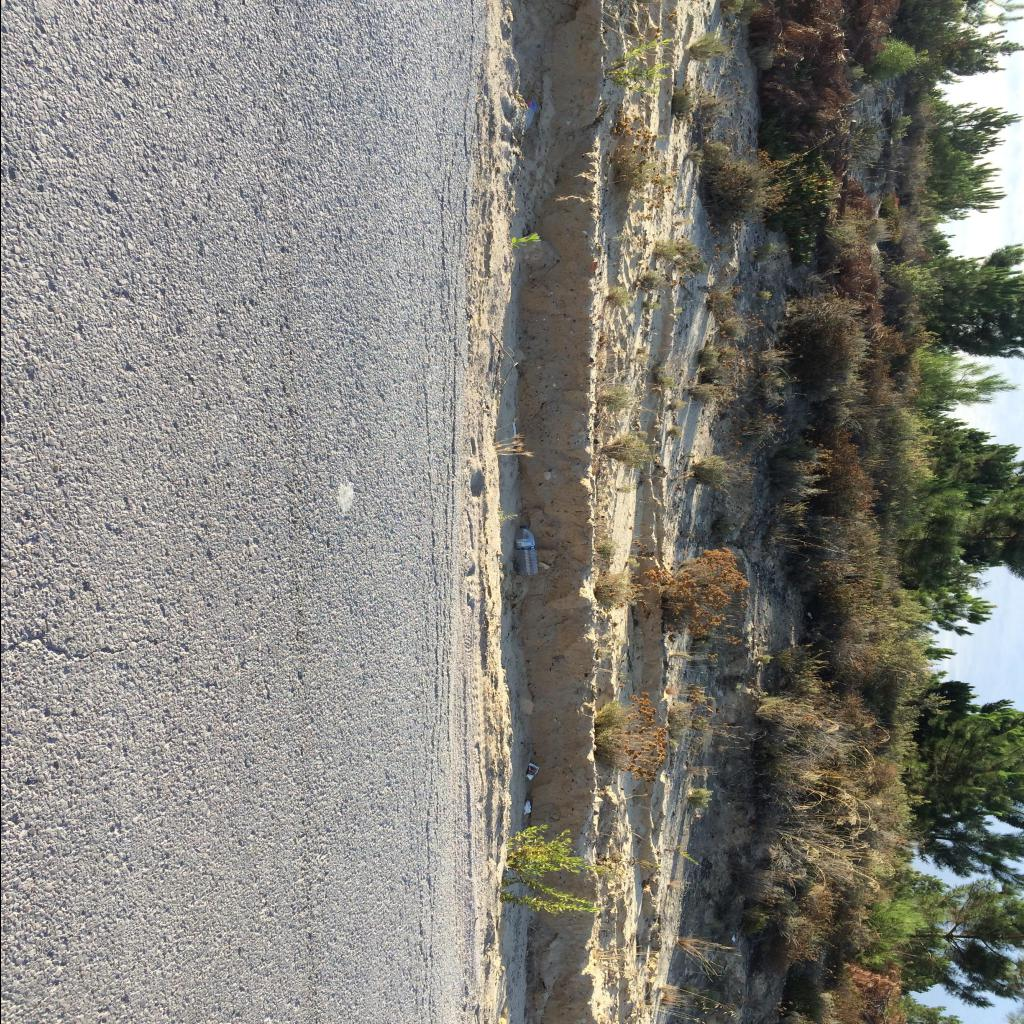Clear plastic bottle: (514, 524, 537, 574), (524, 100, 536, 132)
Other plastic: (526, 762, 538, 780)
Unlabeled litter: (523, 798, 529, 814)
